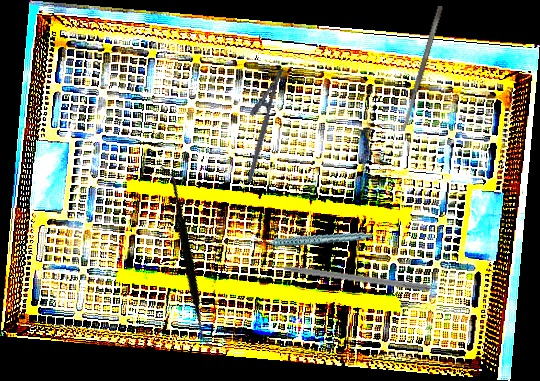Chopper: (257, 251, 433, 293)
Handpiece: (253, 213, 373, 264)
Needle Holder: (231, 61, 285, 184)
Spatula Surgical: (95, 165, 278, 350), (399, 5, 445, 132)
